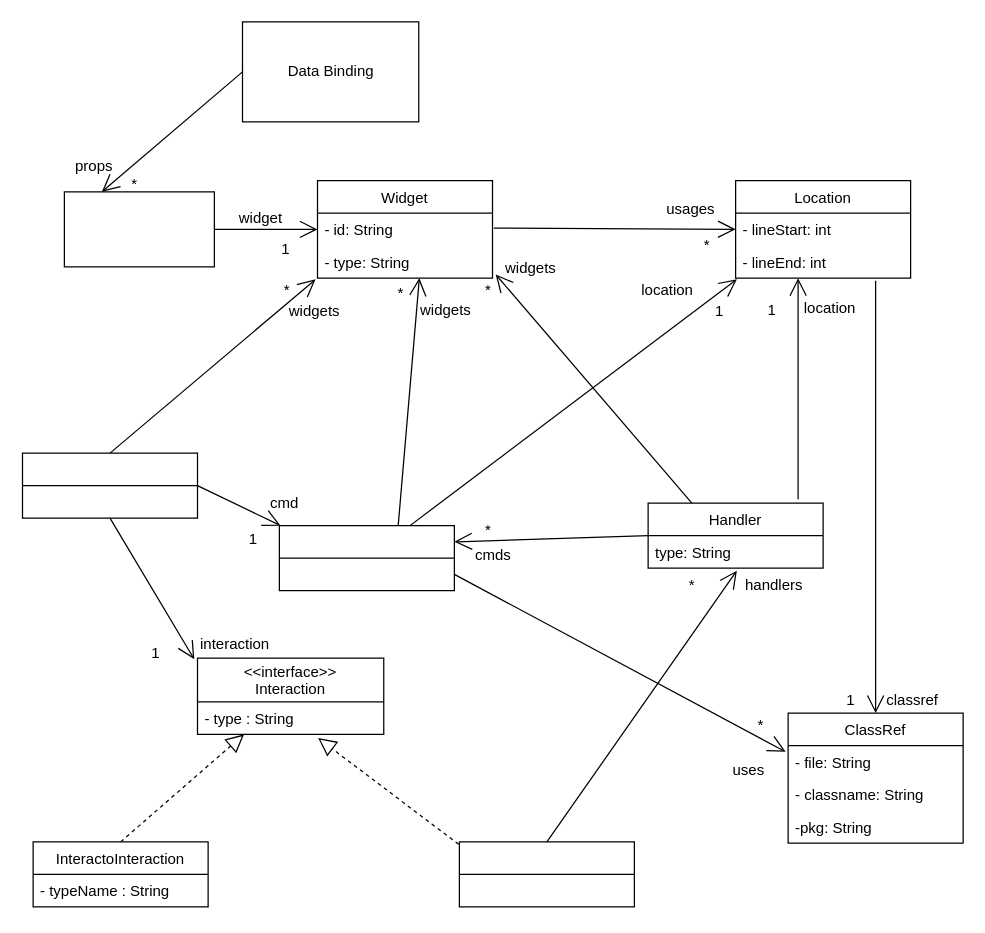
Image size: 985x933. Some labels were removed from this diagram. Here are the shapes that lost their labels. From the top down, the centre of each, then its label:
pixel 138 229: Property
pixel 109 485: WidgetBinding
pixel 366 557: UICommand
pixel 546 874: HandlerInteraction
